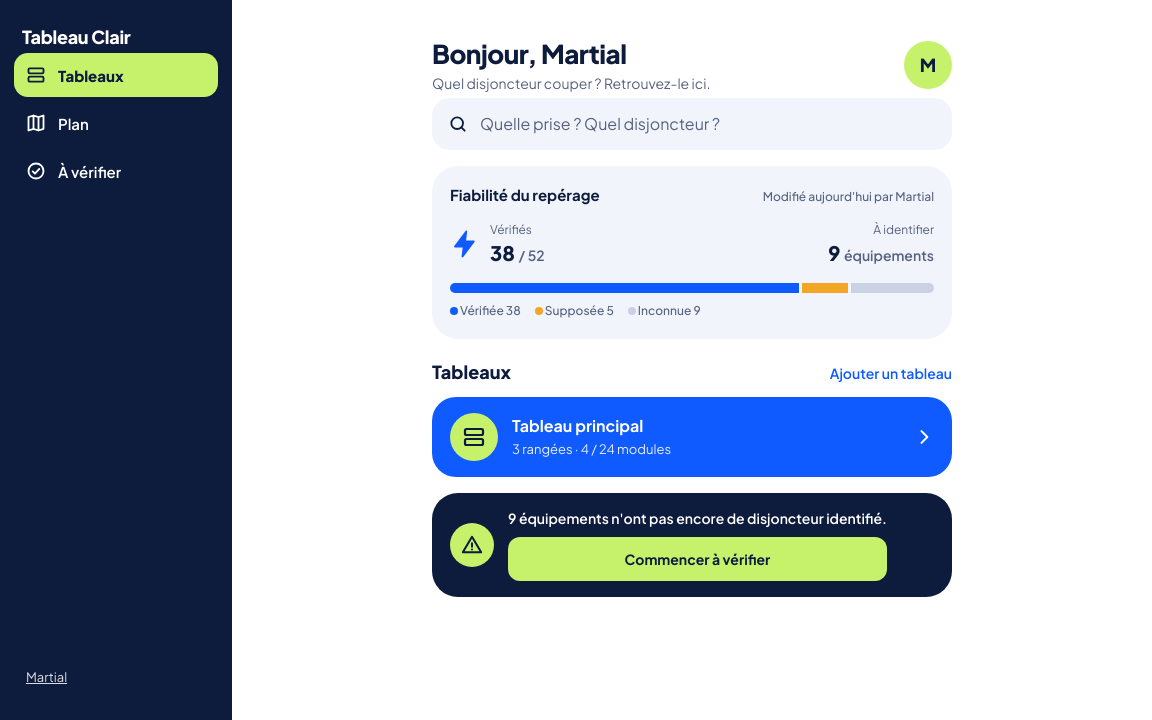
Recherche › affiche le disjoncteur à couper et le statut, et remplace le tableau de bord
Check: the element "Fiabilité du repérage" is shown, box [432,166,952,339]
Type "prise" into the search field named "Rechercher" at (707, 124), box [478,112,936,136]
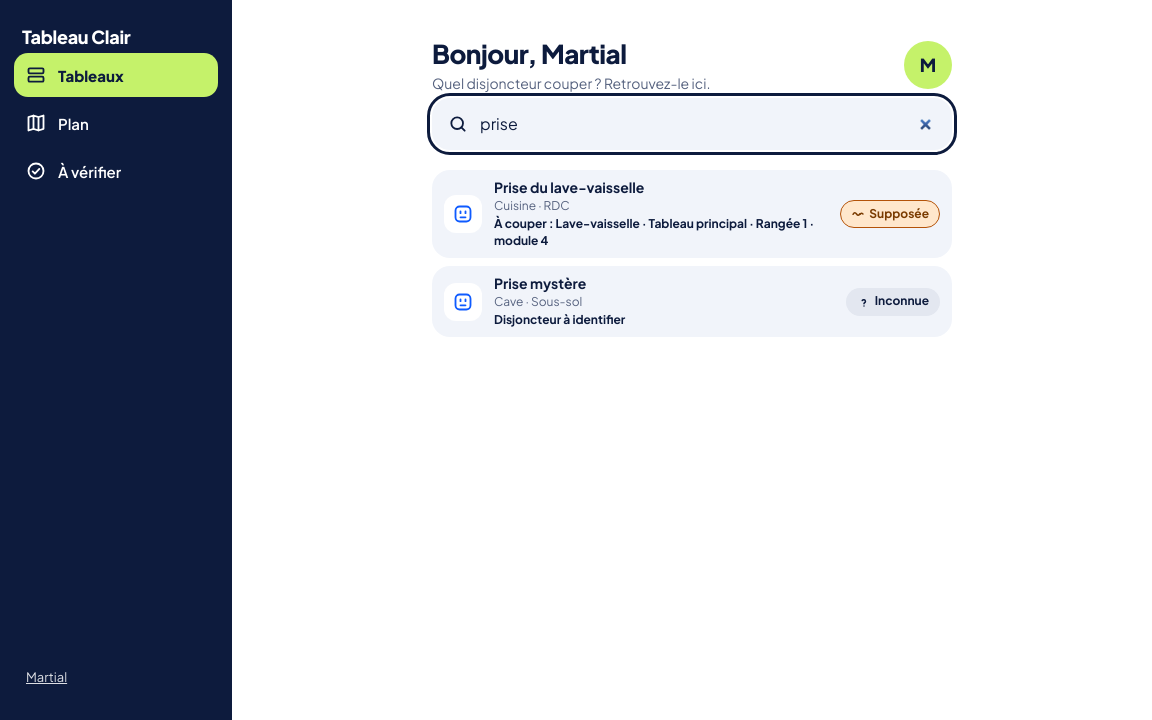
Check: the link that starts with "Prise du lave-vaisselle" is shown, box [432,170,952,258]
Check: the link that starts with "Prise du lave-vaisselle" shows "À couper : Lave-vaisselle · Tableau principal · Rangée 1 · module 4", box [432,170,952,258]
Check: the link that starts with "Prise du lave-vaisselle" shows "Supposée", box [432,170,952,258]
